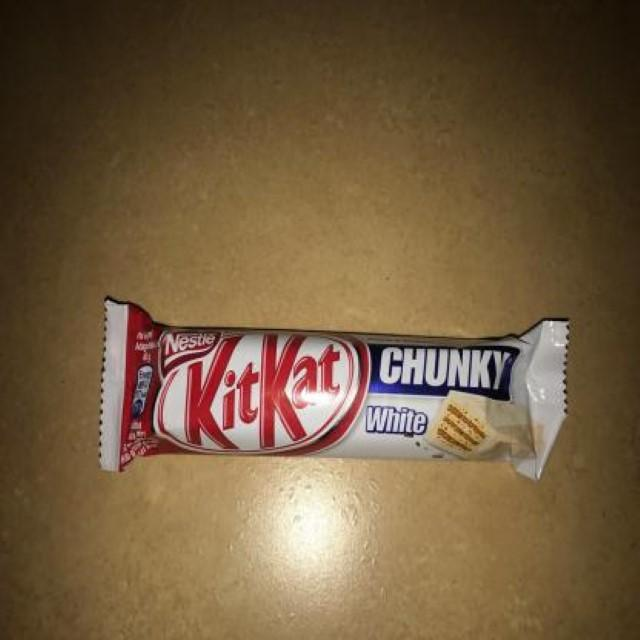kitkat_chocolate: (119, 284, 564, 488)
